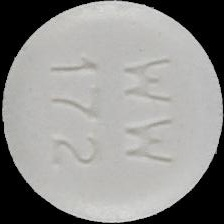66267-040: (0, 0, 224, 224)
